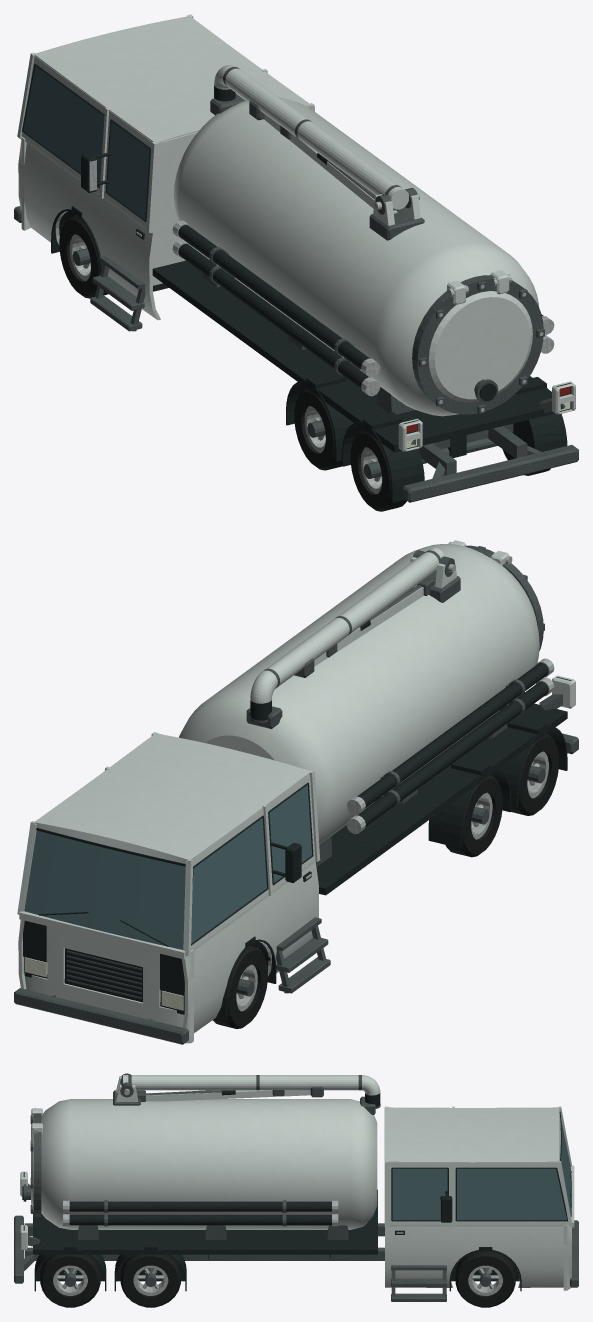
3 views of the same model, one above another, from view 1: azimuth 30°, elevation 25°; view 2: azimuth 150°, elevation 25°; view 3: azimuth 270°, elevation 25° (orthographic). The views are drawn at different scales.
Visible parts, largest first — view 1: B029-09_equipment_paint, B029-09_roof_paint, B029-09_floor_dark, B029-09_body_shell_paint, B029-09_equipment_dark, B029-09_equipment_steel, B029-09_wheelwell_dark, B029-09_glazing_glass, B029-09_door_leaf_paint_work_cab_door-1, B029-09_bumper_steel, B029-09_door_leaf_glass_work_cab_door-1, B029-09_mount_steel (+8 smaller); view 2: B029-09_equipment_paint, B029-09_roof_paint, B029-09_glazing_glass, B029-09_body_shell_paint, B029-09_floor_dark, B029-09_equipment_dark, B029-09_wheelwell_dark, B029-09_door_leaf_paint_work_cab_door-1, B029-09_bumper_steel, B029-09_door_leaf_glass_work_cab_door-1, B029-09_mount_steel, B029-09_equipment_steel (+12 smaller); view 3: B029-09_equipment_paint, B029-09_roof_paint, B029-09_body_shell_paint, B029-09_floor_dark, B029-09_glazing_glass, B029-09_equipment_dark, B029-09_door_leaf_paint_work_cab_door1, B029-09_door_leaf_glass_work_cab_door1, B029-09_mount_steel, B029-09_wheel_rubber_P1.0150_3.1800_0.5100, B029-09_wheel_rubber_P1.0150_-3.8000_0.5100, B029-09_wheel_rubber_P1.0150_-2.4500_0.5100 (+13 smaller).
Part boxes in pixels (box(x1,y1,x2,y2)): B029-09_equipment_paint: box(173, 65, 575, 451); B029-09_roof_paint: box(34, 17, 310, 142); B029-09_floor_dark: box(61, 217, 554, 452); B029-09_body_shell_paint: box(17, 14, 314, 320); B029-09_equipment_dark: box(178, 85, 543, 401); B029-09_equipment_steel: box(209, 66, 544, 414); B029-09_wheelwell_dark: box(51, 209, 567, 502); B029-09_glazing_glass: box(23, 66, 104, 186); B029-09_door_leaf_paint_work_cab_door-1: box(101, 111, 155, 318); B029-09_bumper_steel: box(14, 206, 578, 502); B029-09_door_leaf_glass_work_cab_door-1: box(107, 121, 149, 219); B029-09_mount_steel: box(202, 93, 565, 478); B029-09_equipment_paint: box(179, 540, 575, 844); B029-09_roof_paint: box(35, 733, 310, 859); B029-09_glazing_glass: box(24, 818, 266, 949); B029-09_body_shell_paint: box(17, 732, 320, 1043); B029-09_floor_dark: box(24, 703, 567, 1014); B029-09_equipment_dark: box(250, 620, 548, 826); B029-09_wheelwell_dark: box(216, 726, 567, 1020); B029-09_door_leaf_paint_work_cab_door-1: box(267, 774, 316, 976); B029-09_bumper_steel: box(14, 733, 578, 1044); B029-09_door_leaf_glass_work_cab_door-1: box(269, 785, 311, 882); B029-09_mount_steel: box(52, 571, 562, 1021); B029-09_equipment_steel: box(249, 545, 544, 807); B029-09_equipment_paint: box(20, 1075, 380, 1249); B029-09_roof_paint: box(386, 1107, 558, 1162); B029-09_body_shell_paint: box(384, 1106, 574, 1290); B029-09_floor_dark: box(33, 1189, 377, 1254); B029-09_glazing_glass: box(457, 1121, 572, 1219); B029-09_equipment_dark: box(22, 1090, 380, 1225); B029-09_door_leaf_paint_work_cab_door1: box(388, 1162, 452, 1287); B029-09_door_leaf_glass_work_cab_door1: box(392, 1168, 447, 1219); B029-09_mount_steel: box(22, 1086, 572, 1270); B029-09_wheel_rubber_P1.0150_3.1800_0.5100: box(455, 1251, 515, 1307); B029-09_wheel_rubber_P1.0150_-3.8000_0.5100: box(40, 1254, 100, 1307); B029-09_wheel_rubber_P1.0150_-2.4500_0.5100: box(120, 1254, 180, 1307).
Size of the model in its own units: 2.96 by 3.66 by 9.5.
Materials: 9 (9 with a texture image).
